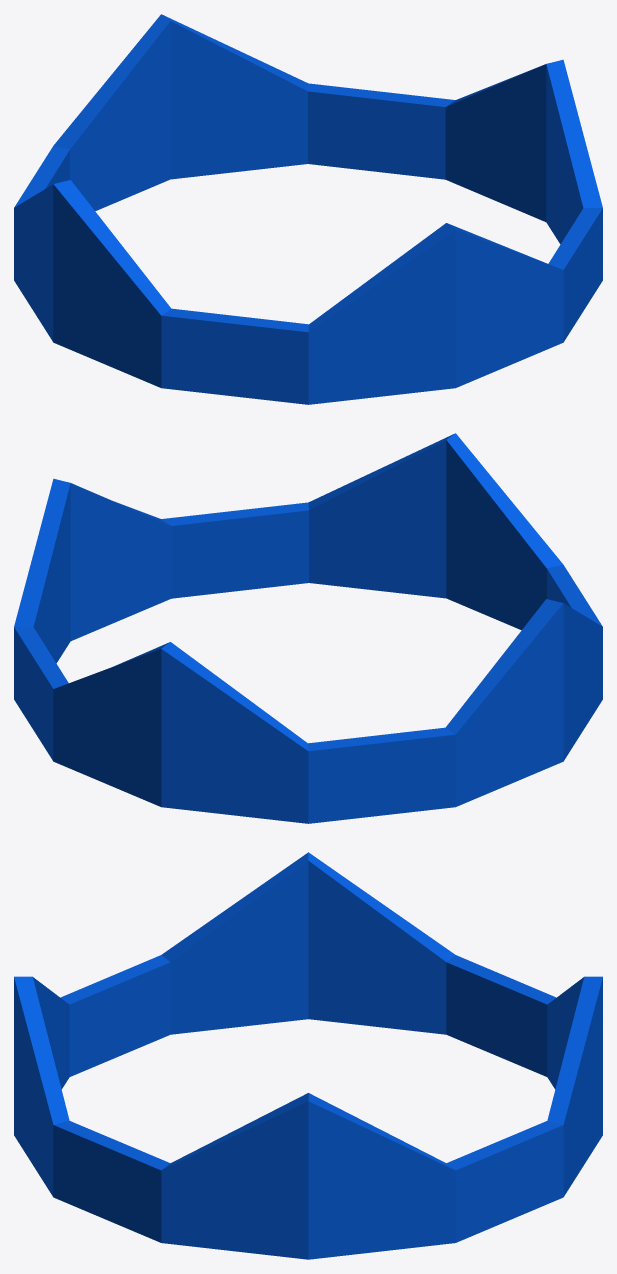
File: crown-blue.glb
3 views of the same model, one above another, from view 1: azimuth 30°, elevation 25°; view 2: azimuth 150°, elevation 25°; view 3: azimuth 270°, elevation 25° (orthographic).
Parts seen in each view (by area): view 1: pTorus1; view 2: pTorus1; view 3: pTorus1.
Boxes of the visible parts, x1,y1,x2,y2 form: pTorus1: (14,14,602,404); pTorus1: (14,433,602,823); pTorus1: (14,852,602,1259).
Size of the model in its own units: 2.25 by 0.6683 by 2.25.
1 material, 1 textured.
